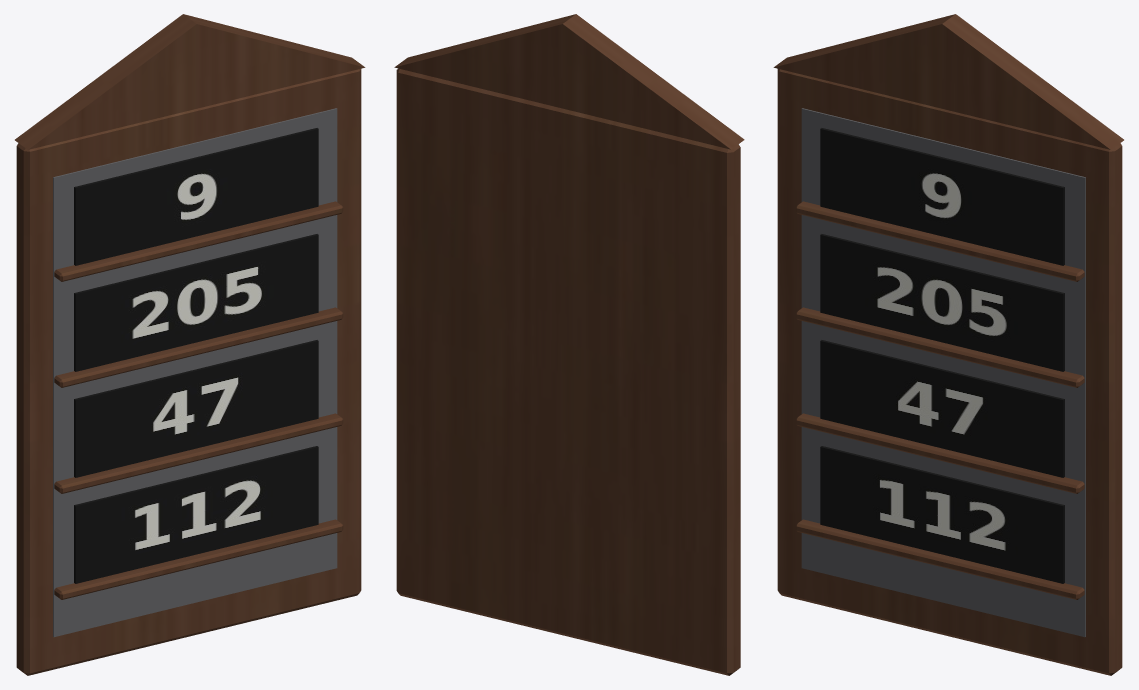
Rendered from quadro_hinos.glb.
3 views of the same model, side by side, from view 1: azimuth 30°, elevation 25°; view 2: azimuth 150°, elevation 25°; view 3: azimuth 330°, elevation 25° (orthographic).
Parts seen in each view (by area): view 1: quadro_hinos_madeira_escura, quadro_hinos_esmalte_escuro, quadro_hinos_hino_0, quadro_hinos_hino_1, quadro_hinos_hino_2, quadro_hinos_hino_3; view 2: quadro_hinos_madeira_escura; view 3: quadro_hinos_madeira_escura, quadro_hinos_esmalte_escuro, quadro_hinos_hino_0, quadro_hinos_hino_1, quadro_hinos_hino_2, quadro_hinos_hino_3.
Part boxes in pixels (box(x1,y1,x2,y2)): quadro_hinos_madeira_escura: box(15, 14, 365, 675); quadro_hinos_esmalte_escuro: box(53, 108, 337, 637); quadro_hinos_hino_0: box(74, 446, 318, 583); quadro_hinos_hino_1: box(74, 340, 318, 477); quadro_hinos_hino_2: box(74, 234, 318, 371); quadro_hinos_hino_3: box(74, 128, 318, 265); quadro_hinos_madeira_escura: box(394, 14, 744, 675); quadro_hinos_madeira_escura: box(773, 14, 1123, 675); quadro_hinos_esmalte_escuro: box(801, 108, 1085, 637); quadro_hinos_hino_0: box(820, 446, 1064, 583); quadro_hinos_hino_1: box(820, 340, 1064, 477); quadro_hinos_hino_2: box(820, 234, 1064, 371); quadro_hinos_hino_3: box(820, 128, 1064, 265).
Size of the model in its own units: 0.5 by 0.87 by 0.05.
Materials: 6 (5 with a texture image).
